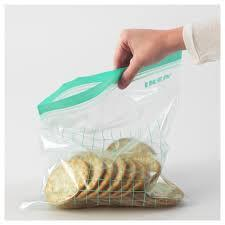Plastic bag: (24, 45, 208, 204)
